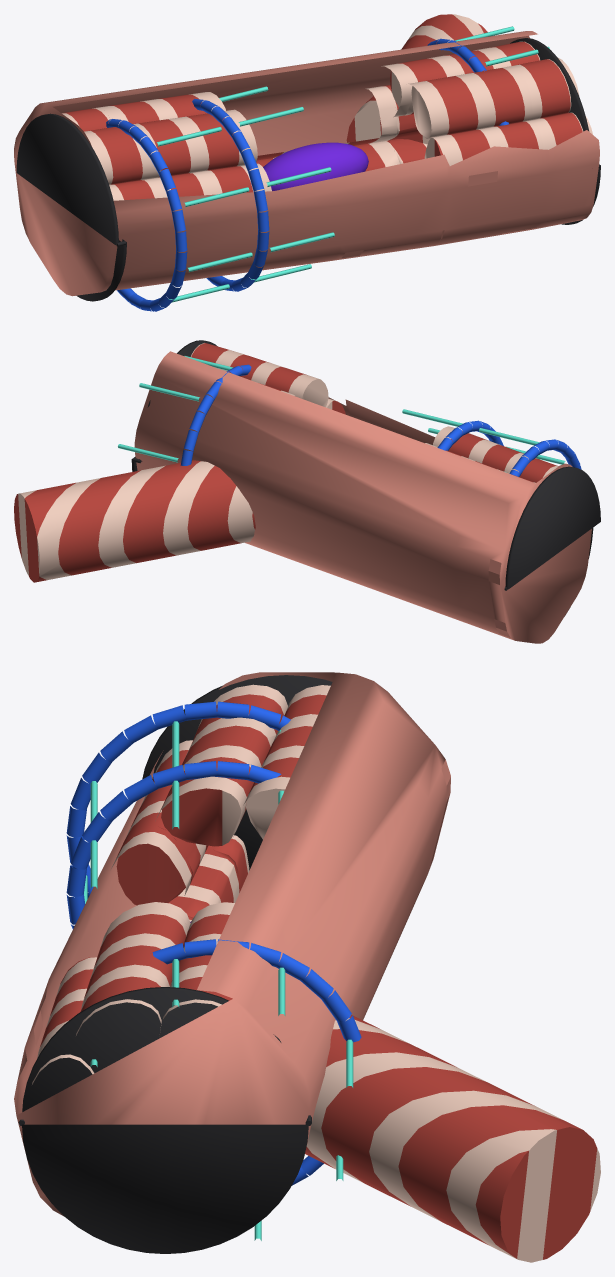
File: cardiomyocyte.glb
The picture shows the model from 3 angles, top to bottom: view 1: azimuth 30°, elevation 25°; view 2: azimuth 150°, elevation 25°; view 3: azimuth 270°, elevation 25°; orthographic projection. The views are drawn at different scales.
Parts seen in each view (by area): view 1: Sarcolemma, Myofibrils, Intercalated discs, T-tubules, Sarcoplasmic reticulum, Nucleus, Branch; view 2: Sarcolemma, Branch, Intercalated discs, Myofibrils, T-tubules, Sarcoplasmic reticulum; view 3: Sarcolemma, Intercalated discs, Branch, Myofibrils, T-tubules, Sarcoplasmic reticulum.
Part boxes in pixels (x1,y1,x2,y2): Sarcolemma: [14, 31, 599, 296]; Myofibrils: [62, 41, 592, 200]; Intercalated discs: [16, 38, 600, 301]; T-tubules: [106, 38, 508, 311]; Sarcoplasmic reticulum: [156, 26, 549, 302]; Nucleus: [263, 142, 368, 190]; Branch: [346, 14, 487, 144]; Sarcolemma: [134, 351, 591, 643]; Branch: [14, 460, 255, 582]; Intercalated discs: [131, 340, 600, 616]; Myofibrils: [191, 343, 558, 483]; T-tubules: [180, 364, 581, 476]; Sarcoplasmic reticulum: [118, 356, 565, 472]; Sarcolemma: [14, 672, 450, 1216]; Intercalated discs: [18, 675, 332, 1253]; Branch: [305, 1015, 600, 1262]; Myofibrils: [32, 684, 330, 1084]; T-tubules: [66, 701, 361, 1185]; Sarcoplasmic reticulum: [84, 721, 353, 1240].
Bounding box in the file's own units: 22.25 × 7.48 × 15.03.
